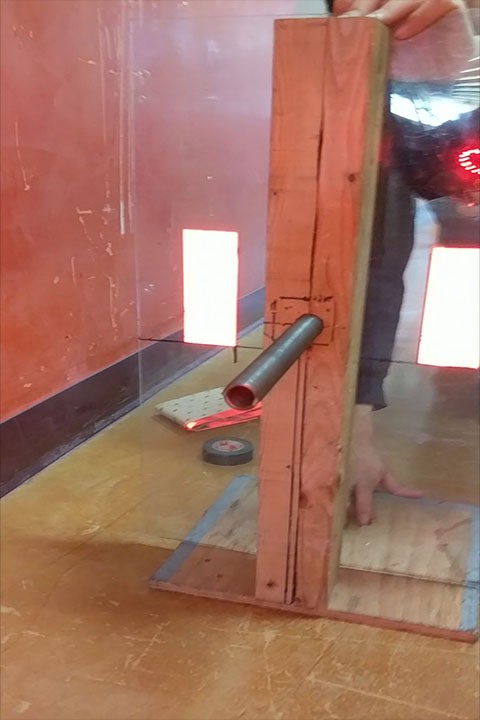gear: (416, 246, 480, 369), (180, 228, 238, 348)
